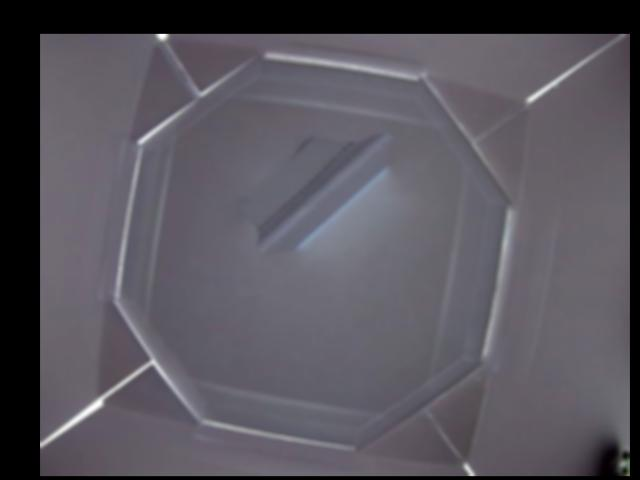China: (243, 126, 393, 256)
